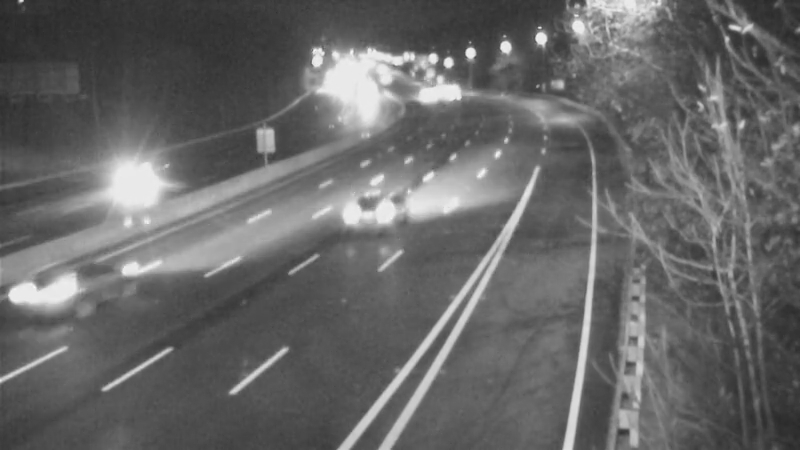vehicle: (325, 165, 405, 245), (7, 253, 87, 333), (89, 139, 169, 219), (397, 67, 447, 117), (419, 74, 469, 124)
